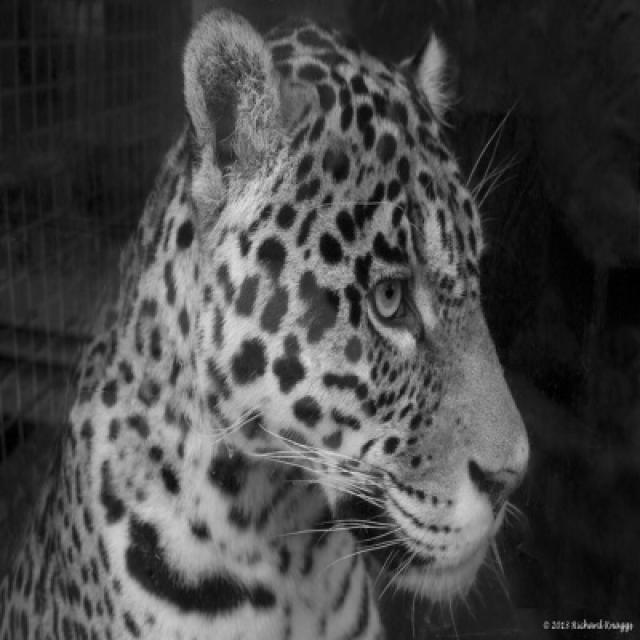Jaguar: (0, 8, 531, 638)
